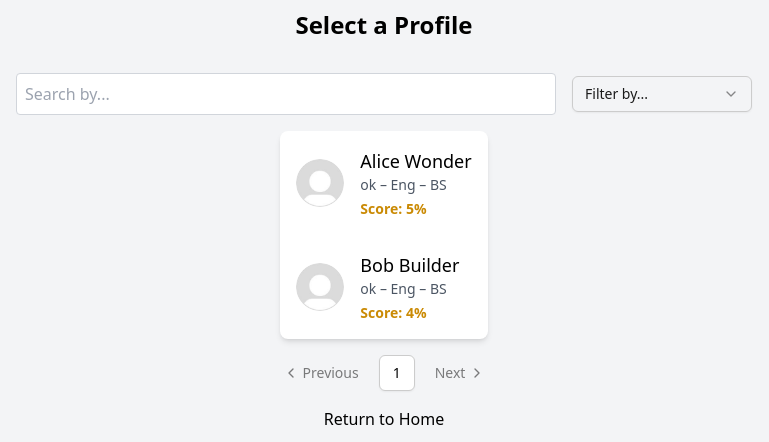
Test: ReviewedApplicantsList › filters profiles by search query
Expected: the text "Alice Wonder" is shown, [360,147,472,175]
Step 1. Type "bob" into the field with placeholder "Search by..." → point(286, 94), box [16,73,556,115]
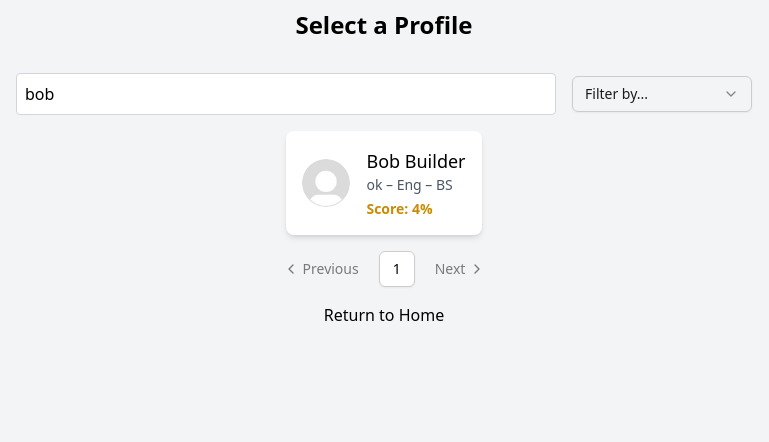
Expected: the button "Alice Wonder" is gone
Expected: the text "Bob Builder" is shown, [366,147,466,175]
